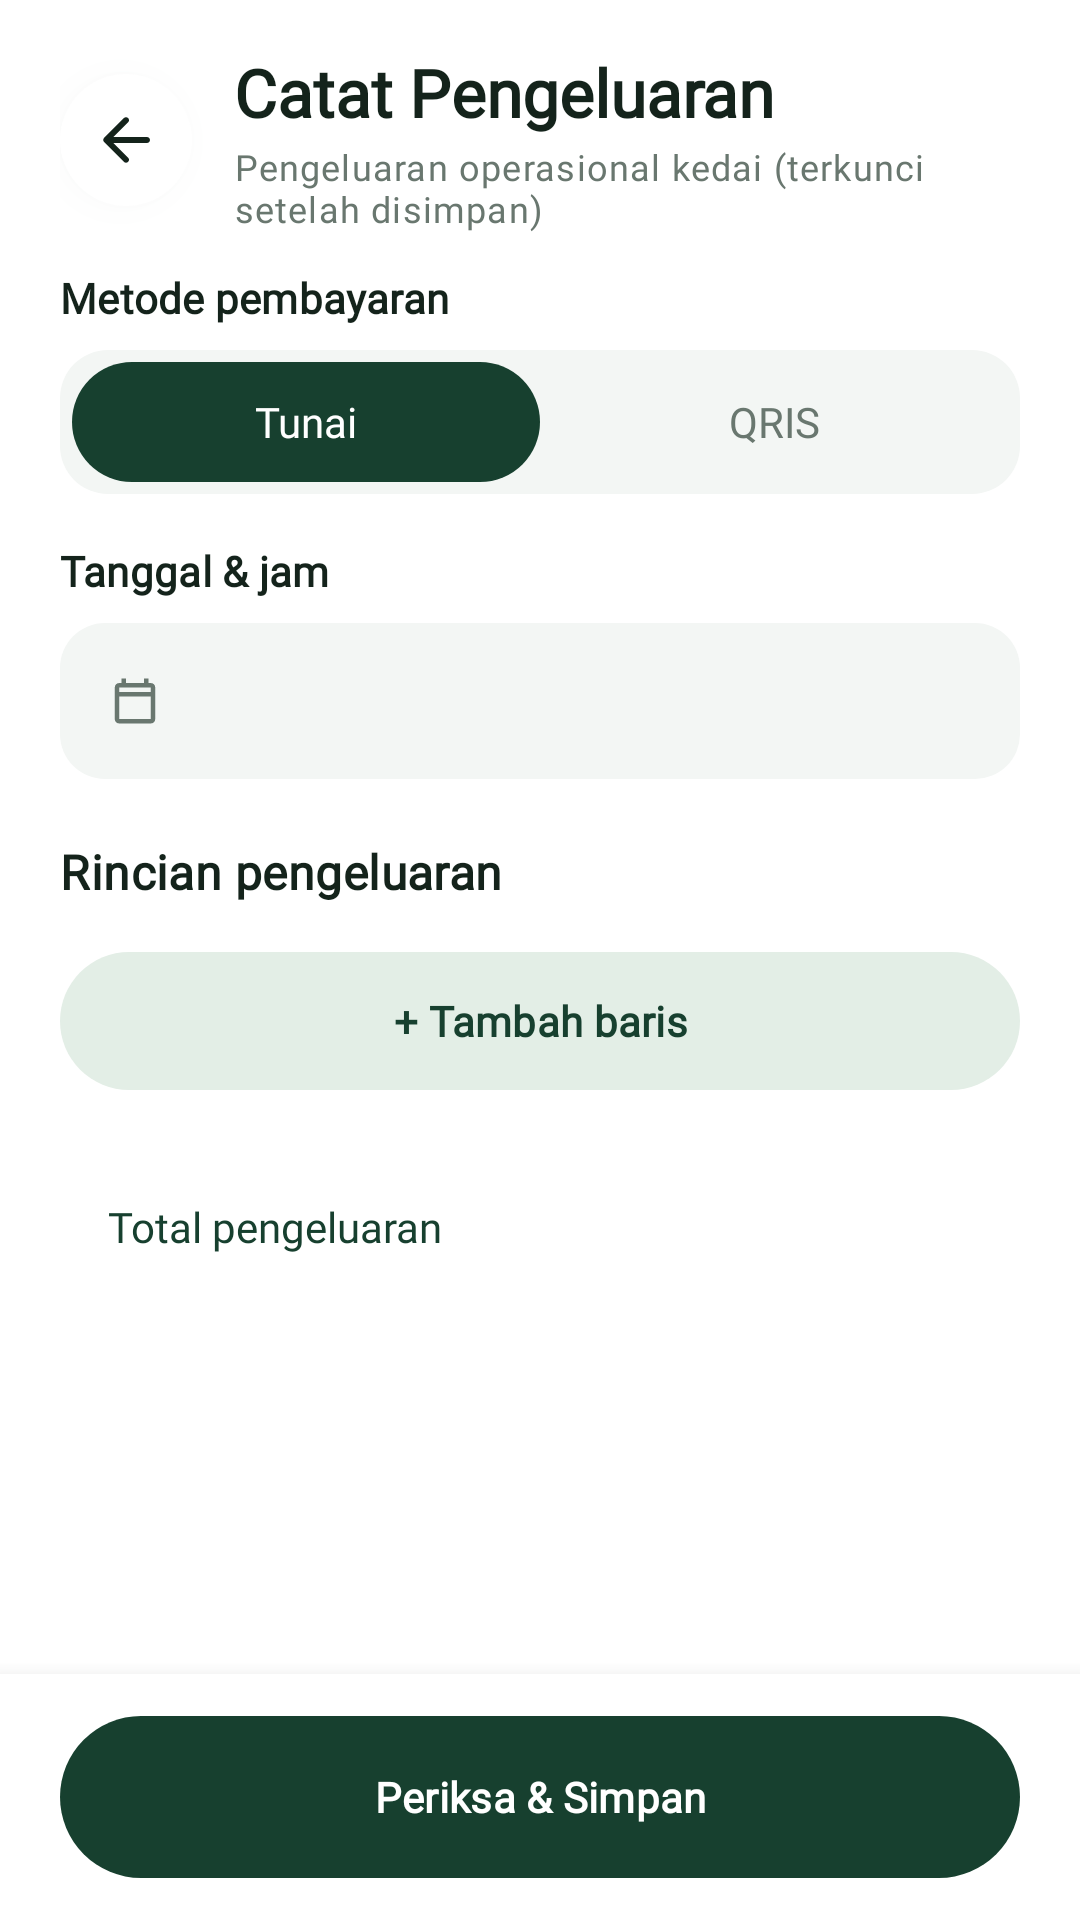

Screen size 1080x1920. Icon name, then its box in pixels as bbox=(x1, y1, x2, y2):
calendar: bbox=(114, 678, 156, 724)
